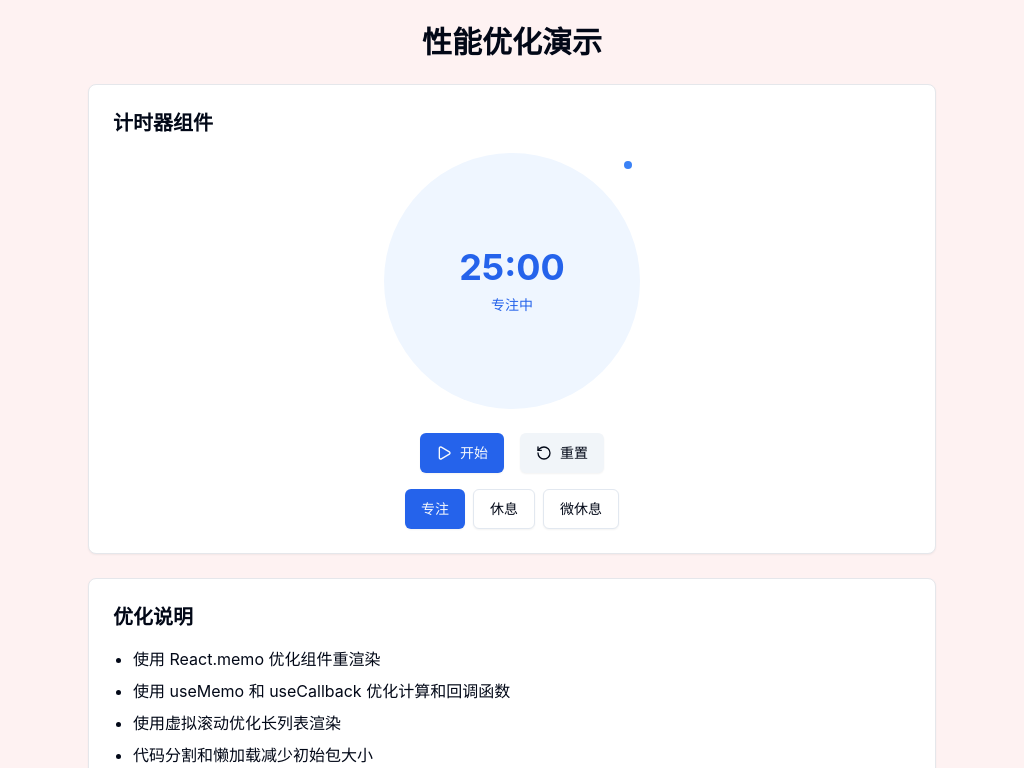
TimerDisplay 性能优化测试 › 优化演示页面 › 应该控制计时器状态
Click the button "开始" at (462,453), box [420,433,504,473]
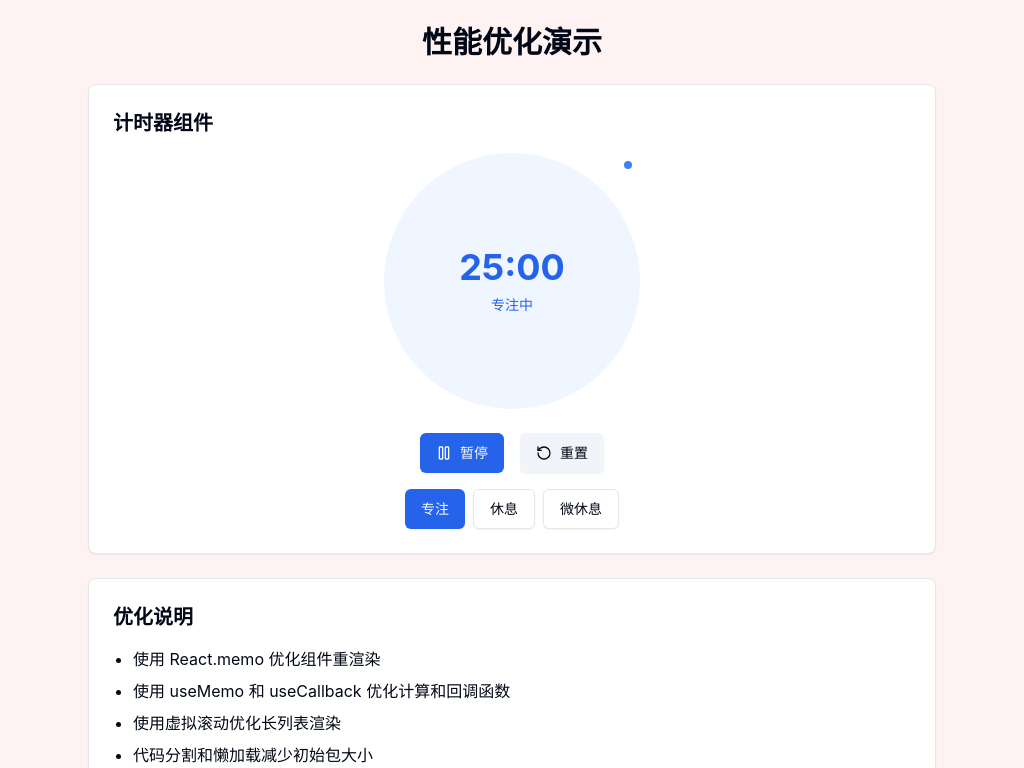
Check: the text "暂停" is shown, box [460,443,488,463]
